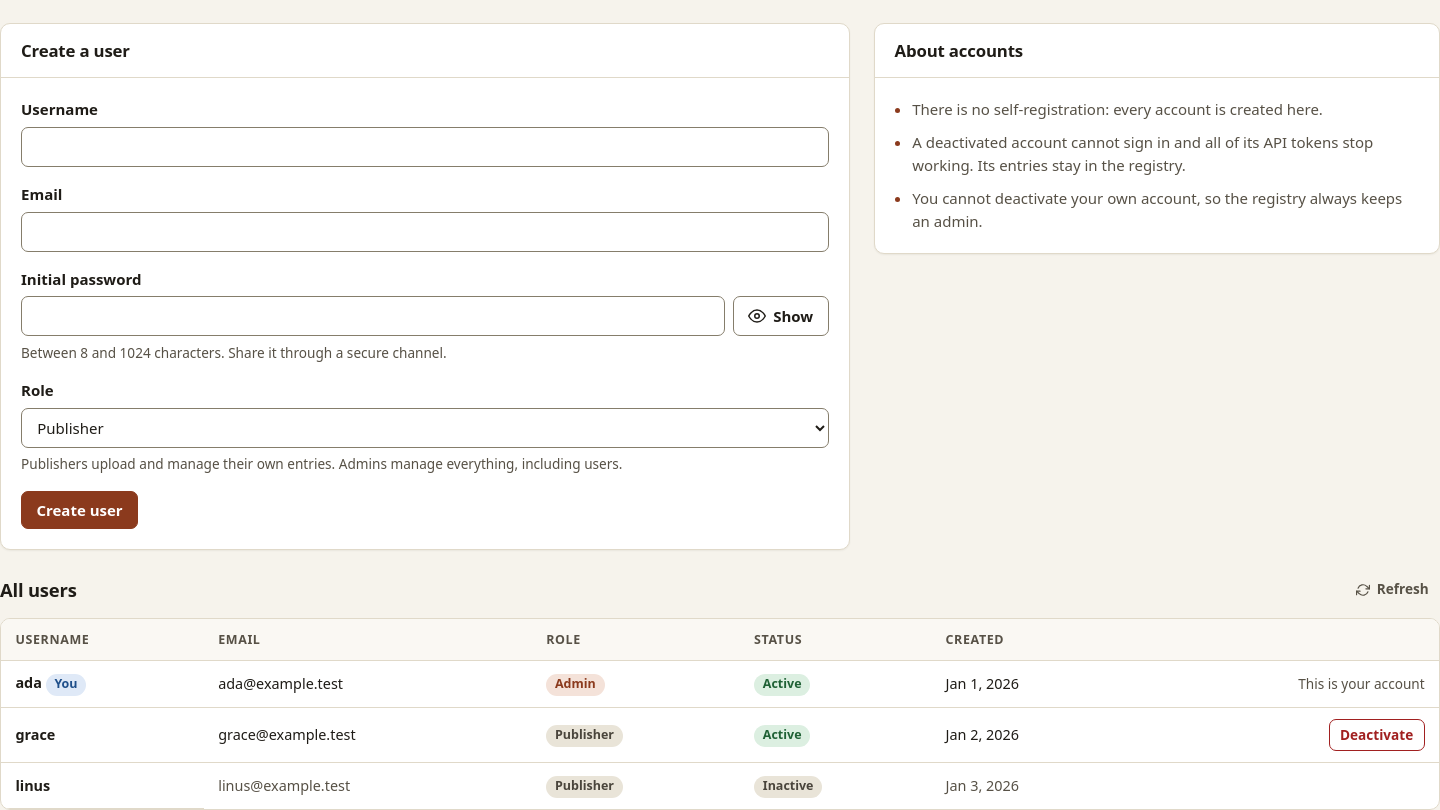
Test: Users: deactivating › shows the message of the server when it refuses
(page scrolled)
Check: the table is shown, box top-left (1, 618), bottom-right (1439, 809)
Click the button named "Deactivate grace".
click(1377, 735)  # box top-left (1329, 719), bottom-right (1425, 751)
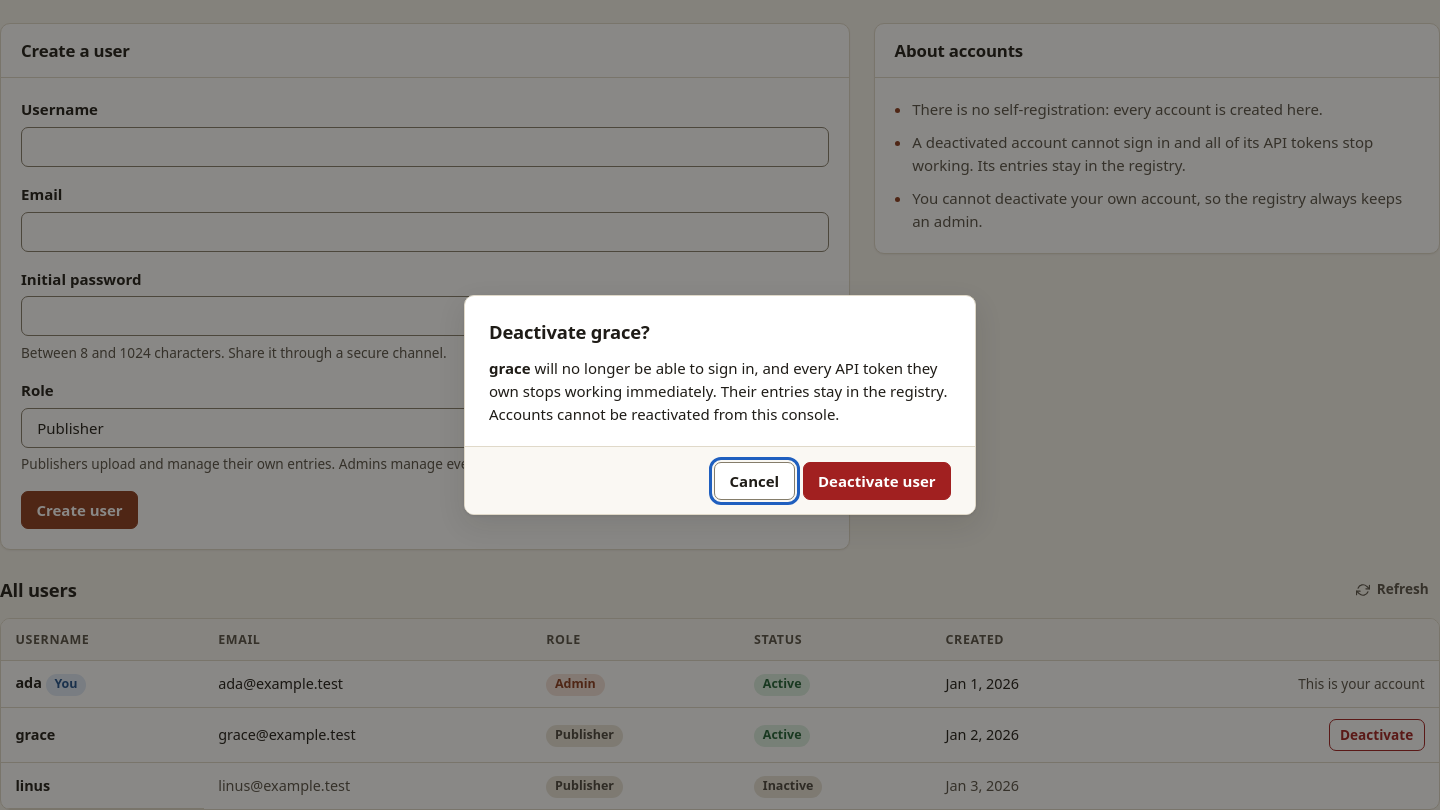
Click the button "Deactivate user".
click(877, 481)  # box top-left (802, 462), bottom-right (951, 500)
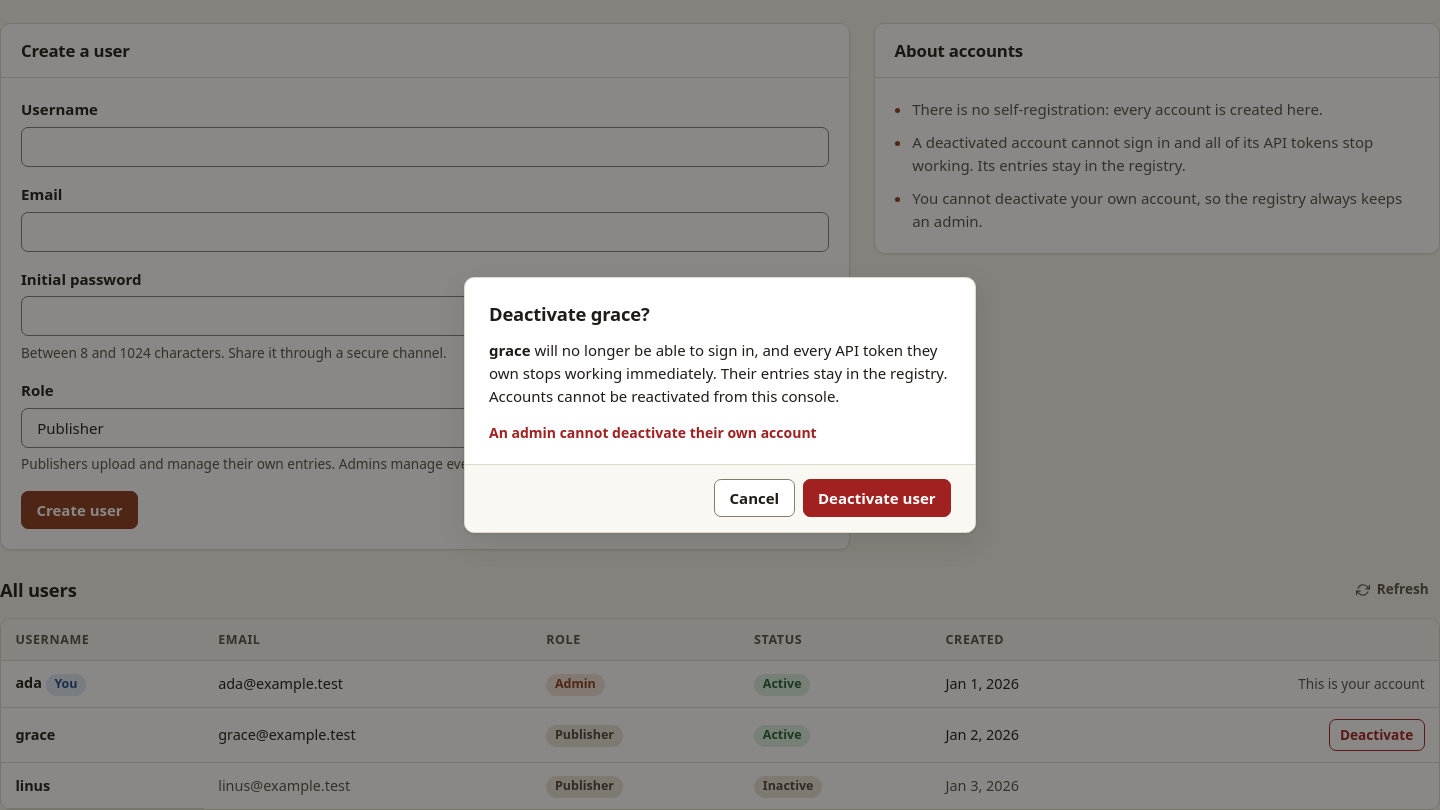
Check: the message reads "An admin cannot deactivate their own account", box top-left (489, 423), bottom-right (817, 442)
